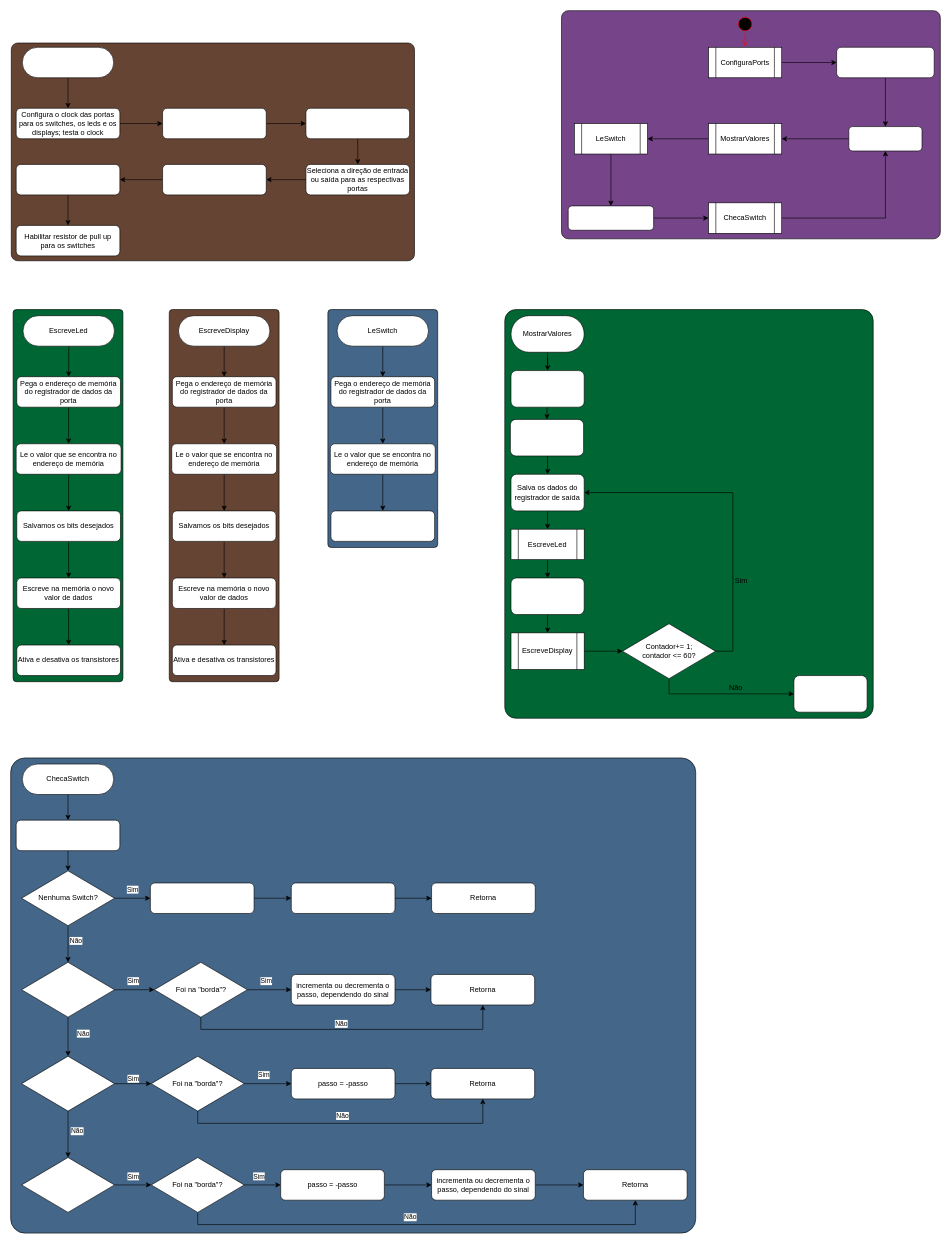
Some shapes in this 951 by 1244 pixel diagram are drawn without their labels. The shapes that lost their labels are listed below. From the top down, each one's centre as x and y in pixels, then its label:
point 68,62: Configura Ports
point 885,62: Contador = 0; Passo = 1; SwitchesAtivas = 11;
point 214,123: Desabilita a função analógica para as portas
point 357,123: Limpar o PCTL das portas para selecionar o modo GPIO
point 885,138: MainLoop
point 68,179: Setar o Digital Enable para habilitar os pinos digitais
point 214,179: Desabilita a função alternativa para as portas
point 611,217: Salva valores de switches apertados
point 547,388: Inicia o contador de atualização
point 547,437: Salva o Link register
point 382,525: "Retorna" o valor lido
point 547,596: Recupera os dados do registrador de saída
point 830,693: Volta ao link register
point 68,835: Pega o valor lido atual da switch
point 202,897: contador+=passo
point 343,897: Verifica e corrige overflows e underflows
point 68,989: SW1?
point 68,1083: SW2?
point 68,1184: Ambas?
